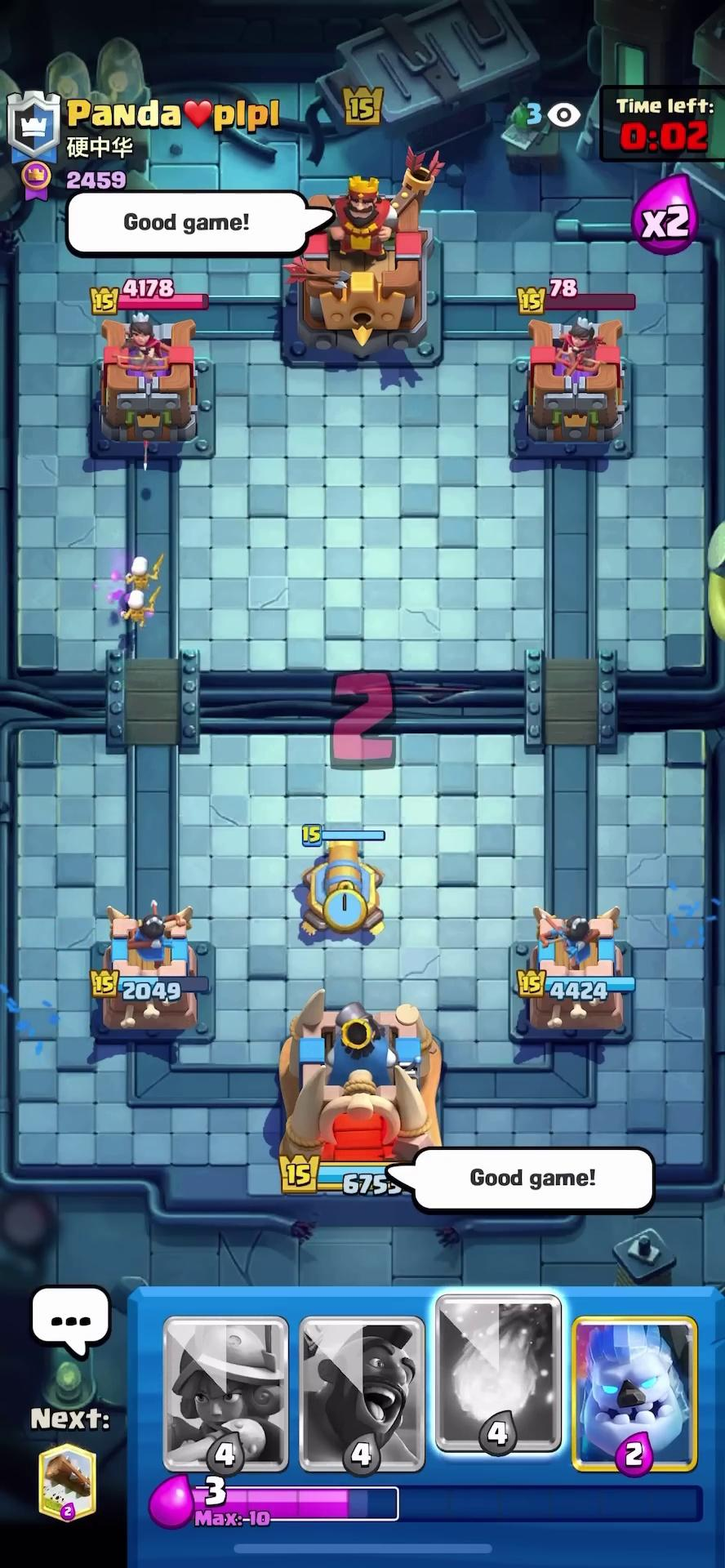cannon: (282, 829, 398, 939)
skeletons: (106, 543, 169, 641)
